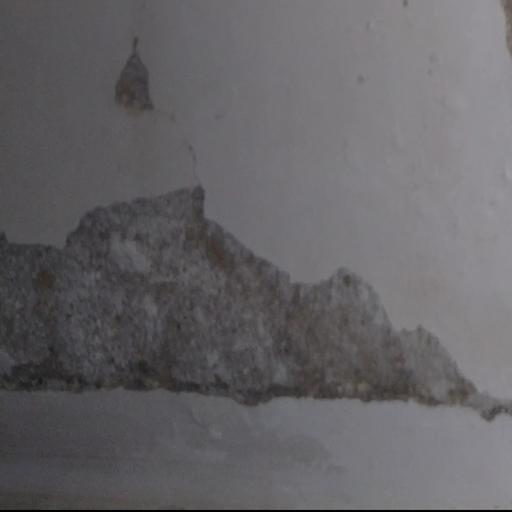peeling: (0, 194, 512, 425), (101, 26, 178, 132)
